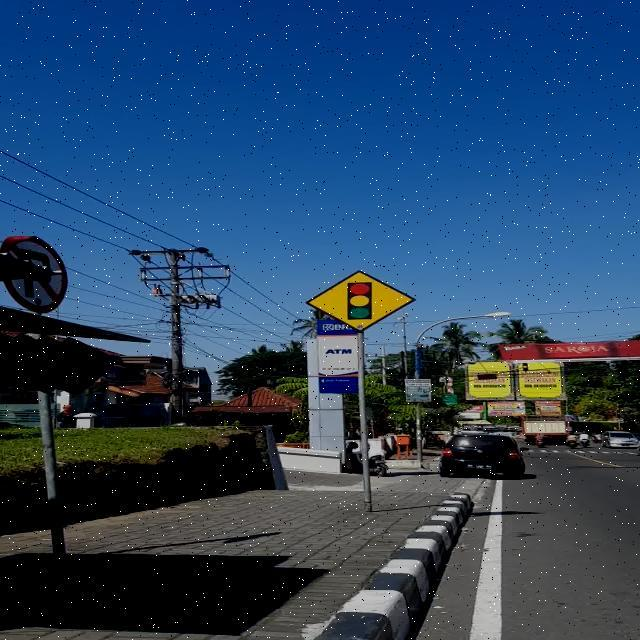Lampu Lalu Lintas: (304, 270, 416, 332)
